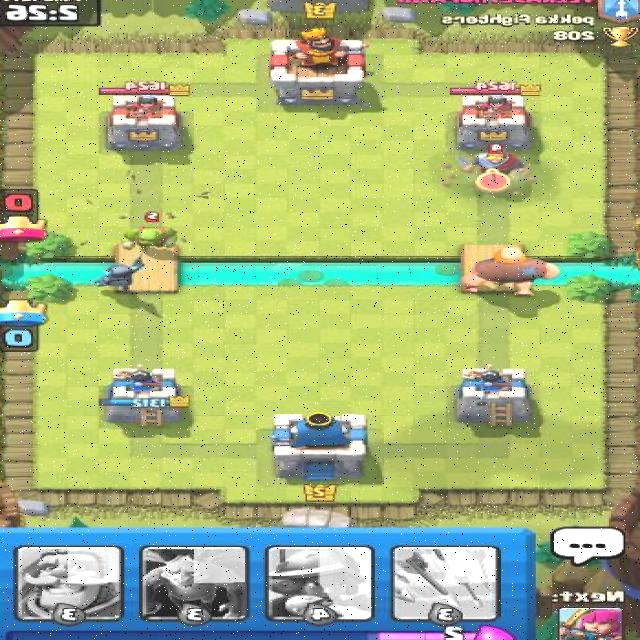Enemy-Brawler: (119, 210, 179, 253)
Enemy-Knight: (454, 142, 530, 187)
Player-Giant: (461, 245, 561, 298)
Player-MiniPEKKA: (91, 251, 150, 294)
